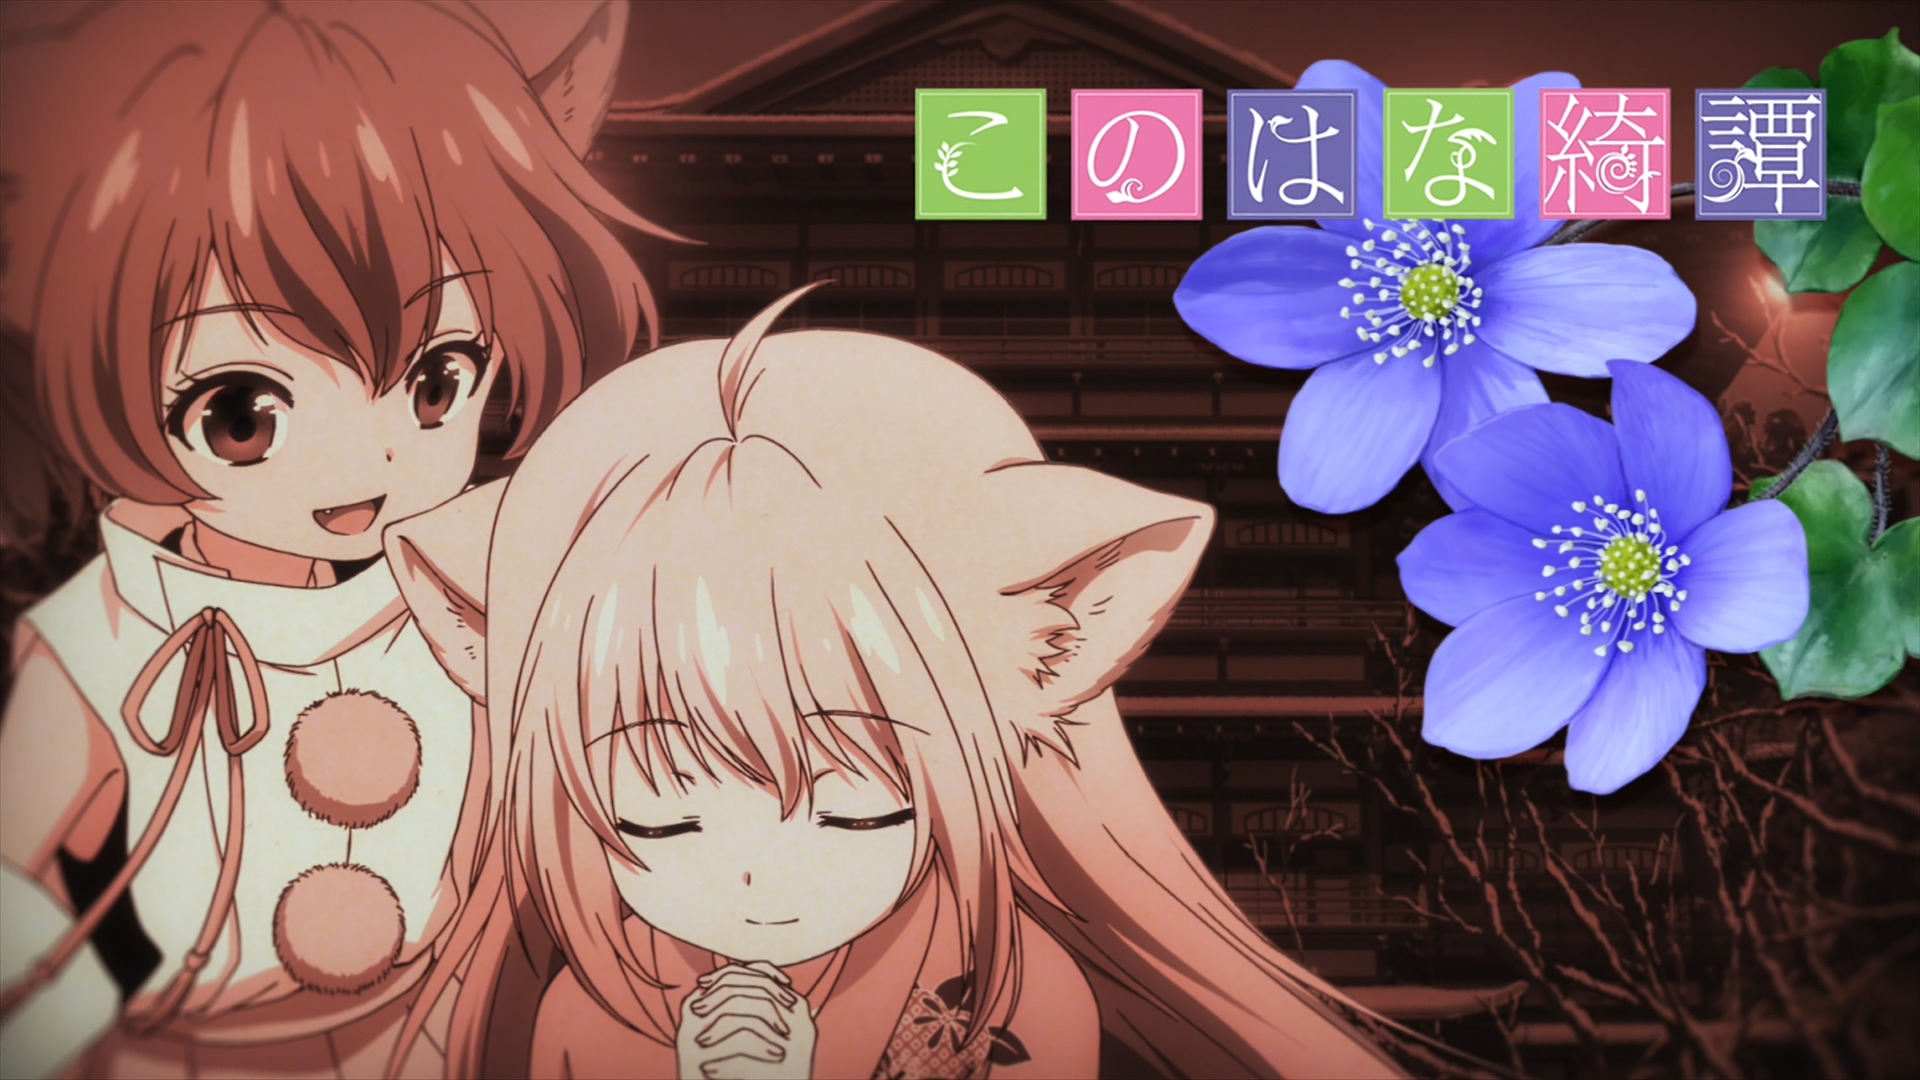柚: (382, 278, 1482, 1080)
椿: (1, 1, 711, 1080)
